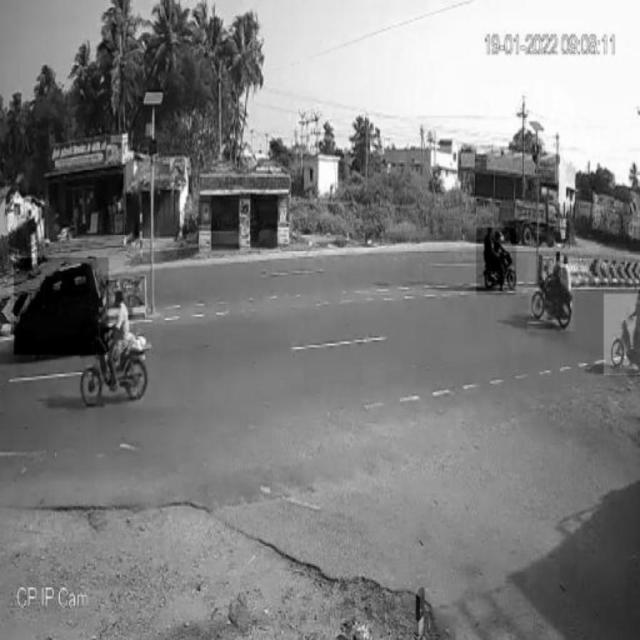vehicle: (14, 258, 108, 356), (81, 281, 152, 407), (528, 256, 575, 330), (604, 294, 640, 375), (477, 227, 517, 295)
